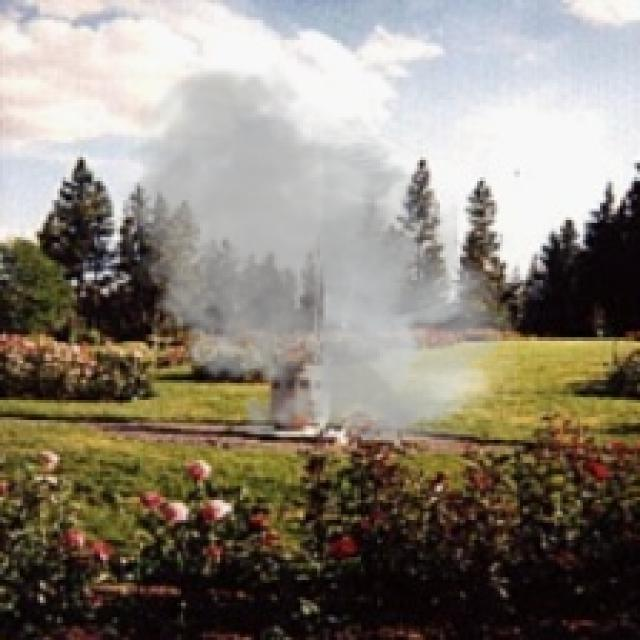Smoke: (105, 60, 518, 457)
